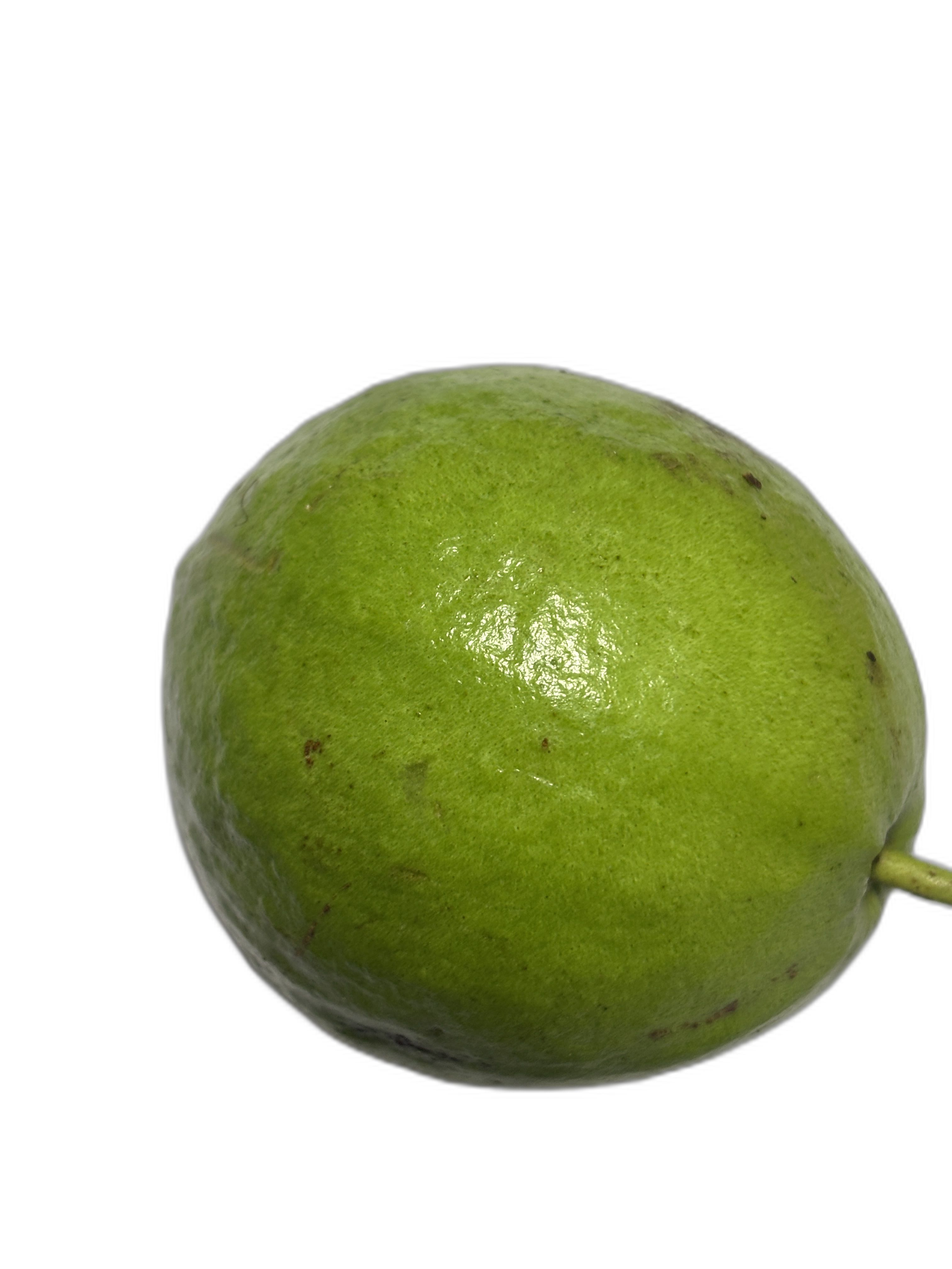guava: (170, 318, 927, 1156)
